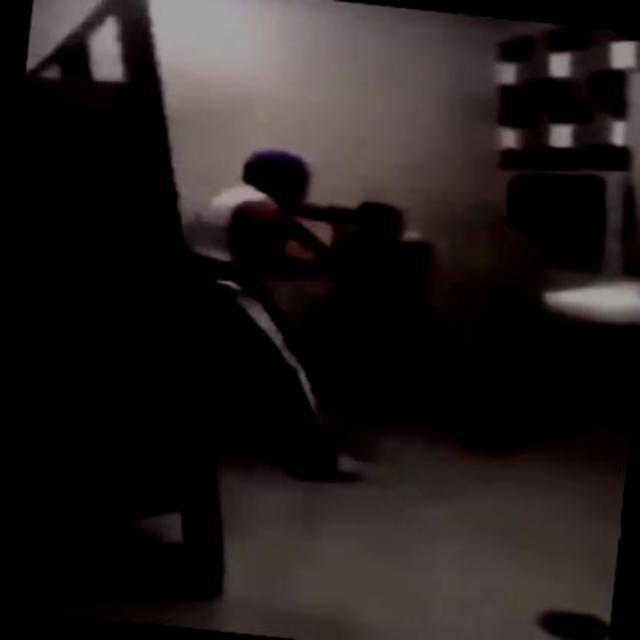fight: (158, 132, 547, 496)
